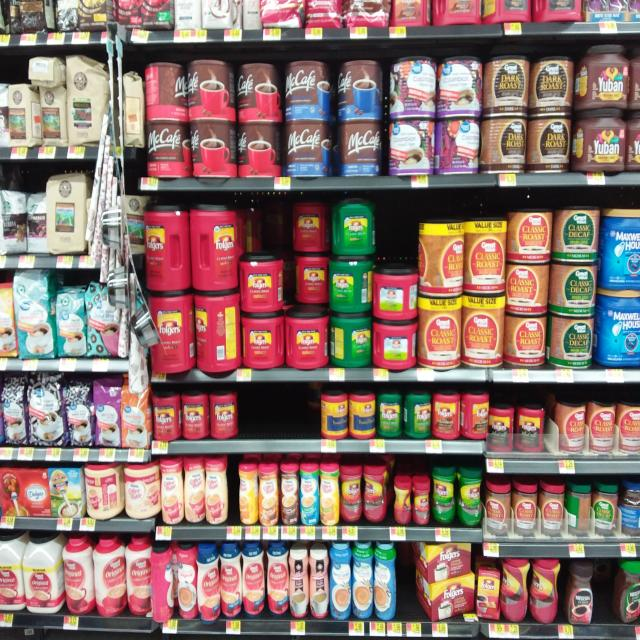void: (398, 540, 423, 640), (293, 386, 316, 462), (241, 386, 264, 461), (268, 384, 288, 466), (599, 557, 615, 640)
